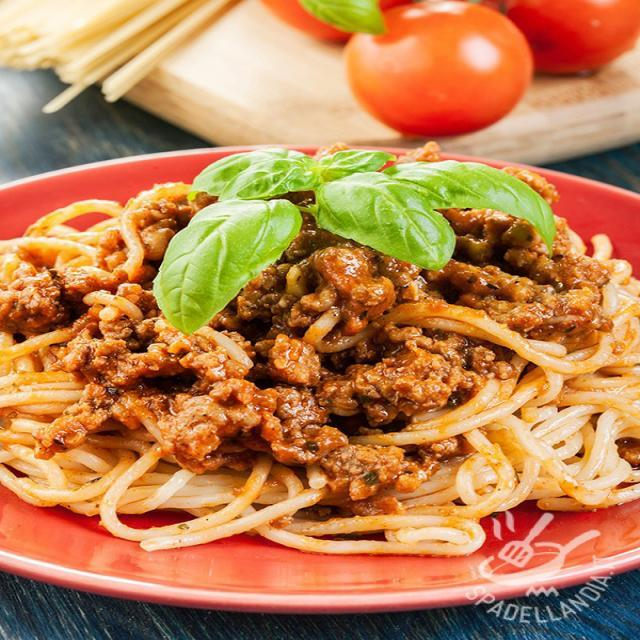Pasta al ragu: (14, 142, 630, 565)
